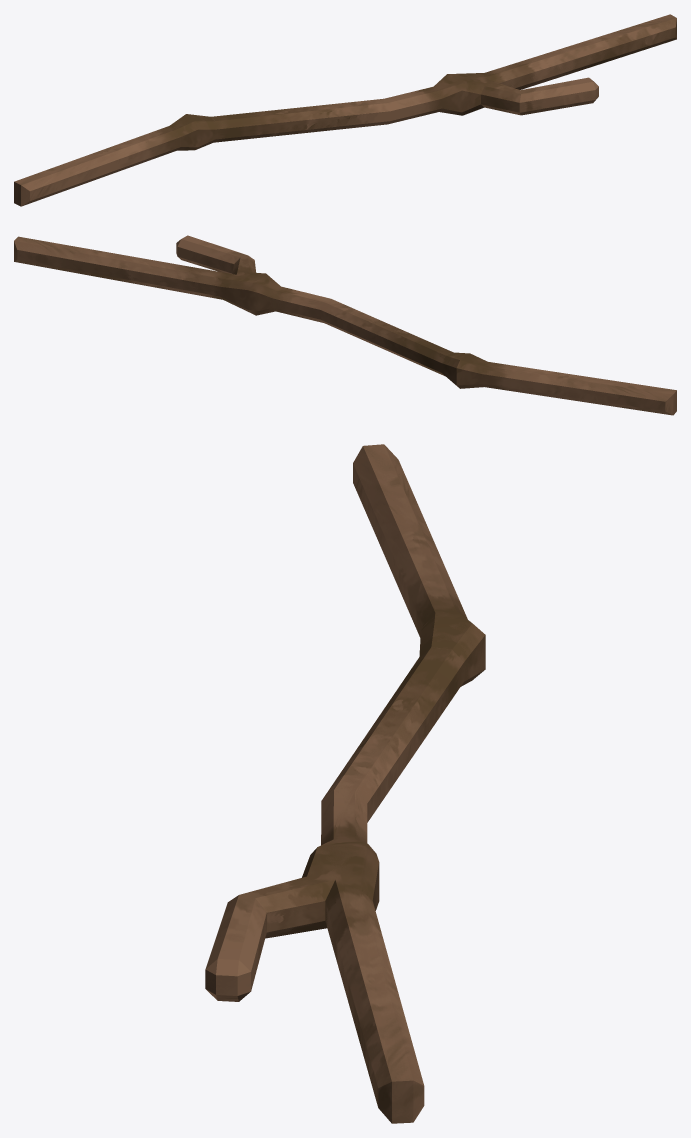
File: patyk_2.obj
The picture shows the model from 3 angles, top to bottom: view 1: azimuth 30°, elevation 25°; view 2: azimuth 150°, elevation 25°; view 3: azimuth 270°, elevation 25°; orthographic projection. The views are drawn at different scales.
Visible parts, largest first — view 1: Vert.007; view 2: Vert.007; view 3: Vert.007.
Boxes of the visible parts, x1,y1,x2,y2 form: Vert.007: (14,14,676,206); Vert.007: (14,235,676,415); Vert.007: (205,444,485,1123).
Size of the model in its own units: 13.07 by 0.6263 by 2.43.
1 material, 1 textured.
